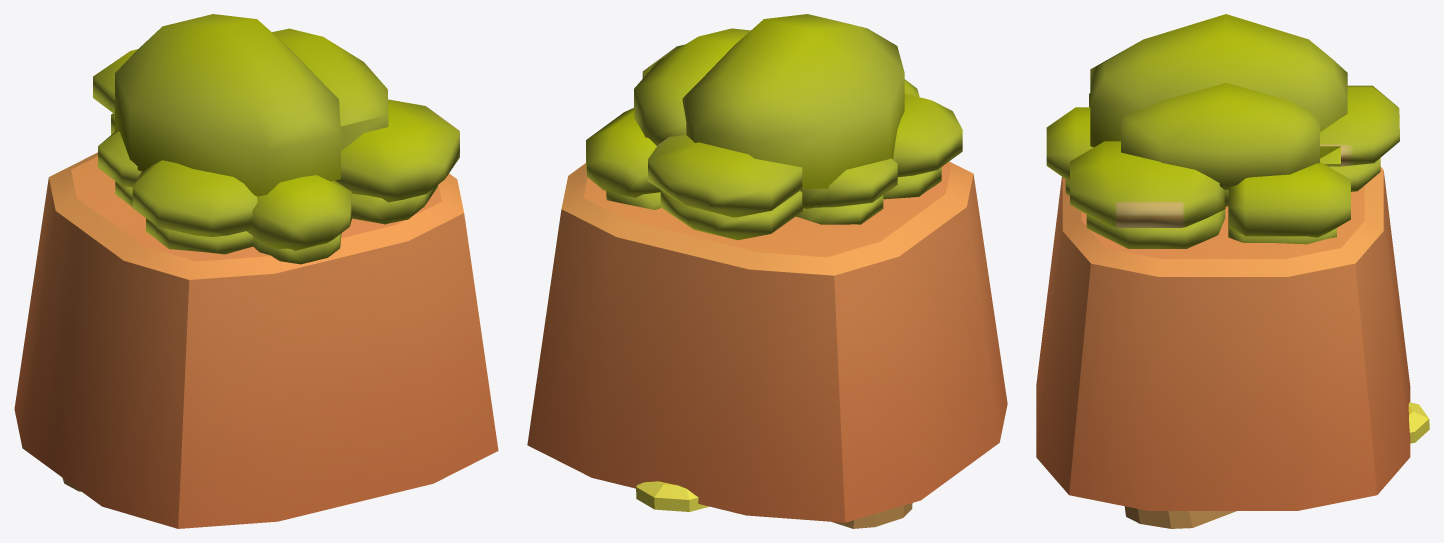
File: block itemps pack.fbx
3 views of the same model, side by side, from view 1: azimuth 30°, elevation 25°; view 2: azimuth 150°, elevation 25°; view 3: azimuth 270°, elevation 25° (orthographic). The views are drawn at different scales.
Visible parts, largest first — view 1: rock_normal, tree_block2, tree_block1; view 2: rock_normal, tree_block2, tree_block1, gold_bag, rock_block; view 3: rock_normal, tree_block2, tree_block1, rock_block, gold_bag.
Part boxes in pixels (left/top/right/bottom): rock_normal: left=14, top=152, right=498, bottom=528; tree_block2: left=93, top=14, right=459, bottom=250; tree_block1: left=111, top=113, right=437, bottom=264; rock_normal: left=527, top=161, right=1007, bottom=522; tree_block2: left=586, top=14, right=962, bottom=217; tree_block1: left=606, top=167, right=941, bottom=240; gold_bag: left=636, top=481, right=708, bottom=511; rock_block: left=831, top=503, right=912, bottom=528; rock_normal: left=1036, top=166, right=1410, bottom=510; tree_block2: left=1046, top=14, right=1399, bottom=237; tree_block1: left=1065, top=147, right=1380, bottom=248; rock_block: left=1124, top=506, right=1236, bottom=528; gold_bag: left=1408, top=402, right=1429, bottom=443.
Bounding box in the file's own units: 0.9676 × 1.05 × 0.9011.
